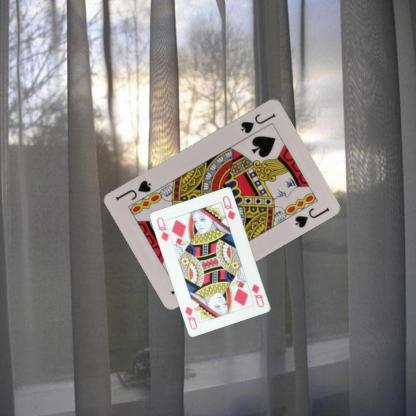Js: (238, 110, 277, 135)
Qd: (154, 215, 174, 243), (249, 281, 266, 309)
